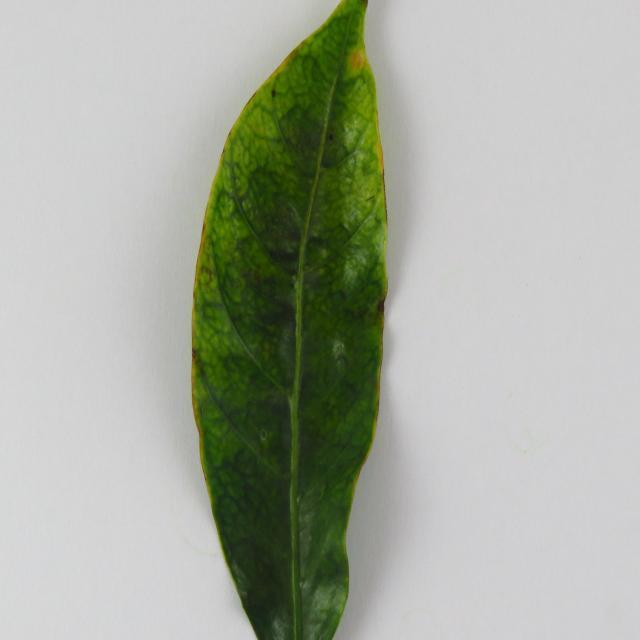DeficienciaNutricional-Manganeso: (192, 0, 388, 638)
